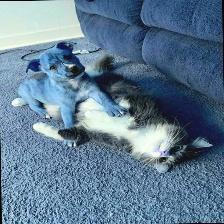kedo: (32, 72, 214, 174)
